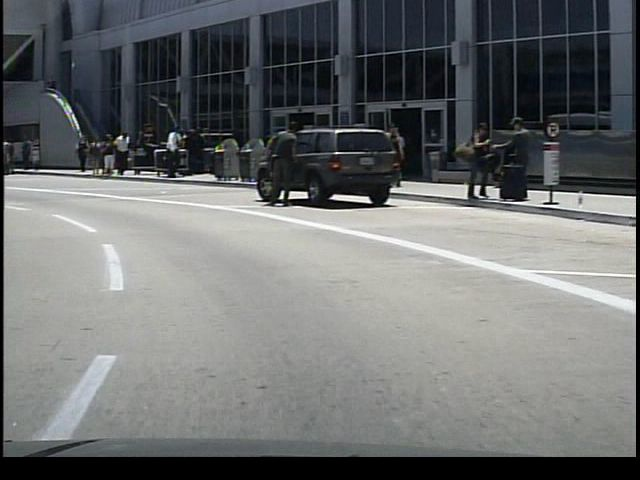person: (490, 114, 532, 201), (264, 117, 297, 214), (455, 116, 489, 203), (158, 124, 181, 181), (109, 129, 131, 179), (94, 132, 114, 181), (69, 132, 87, 176)
